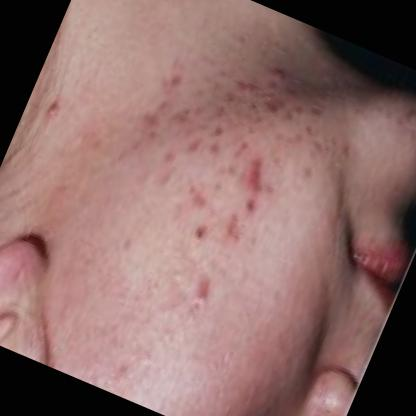Acne: (187, 216, 214, 249)
